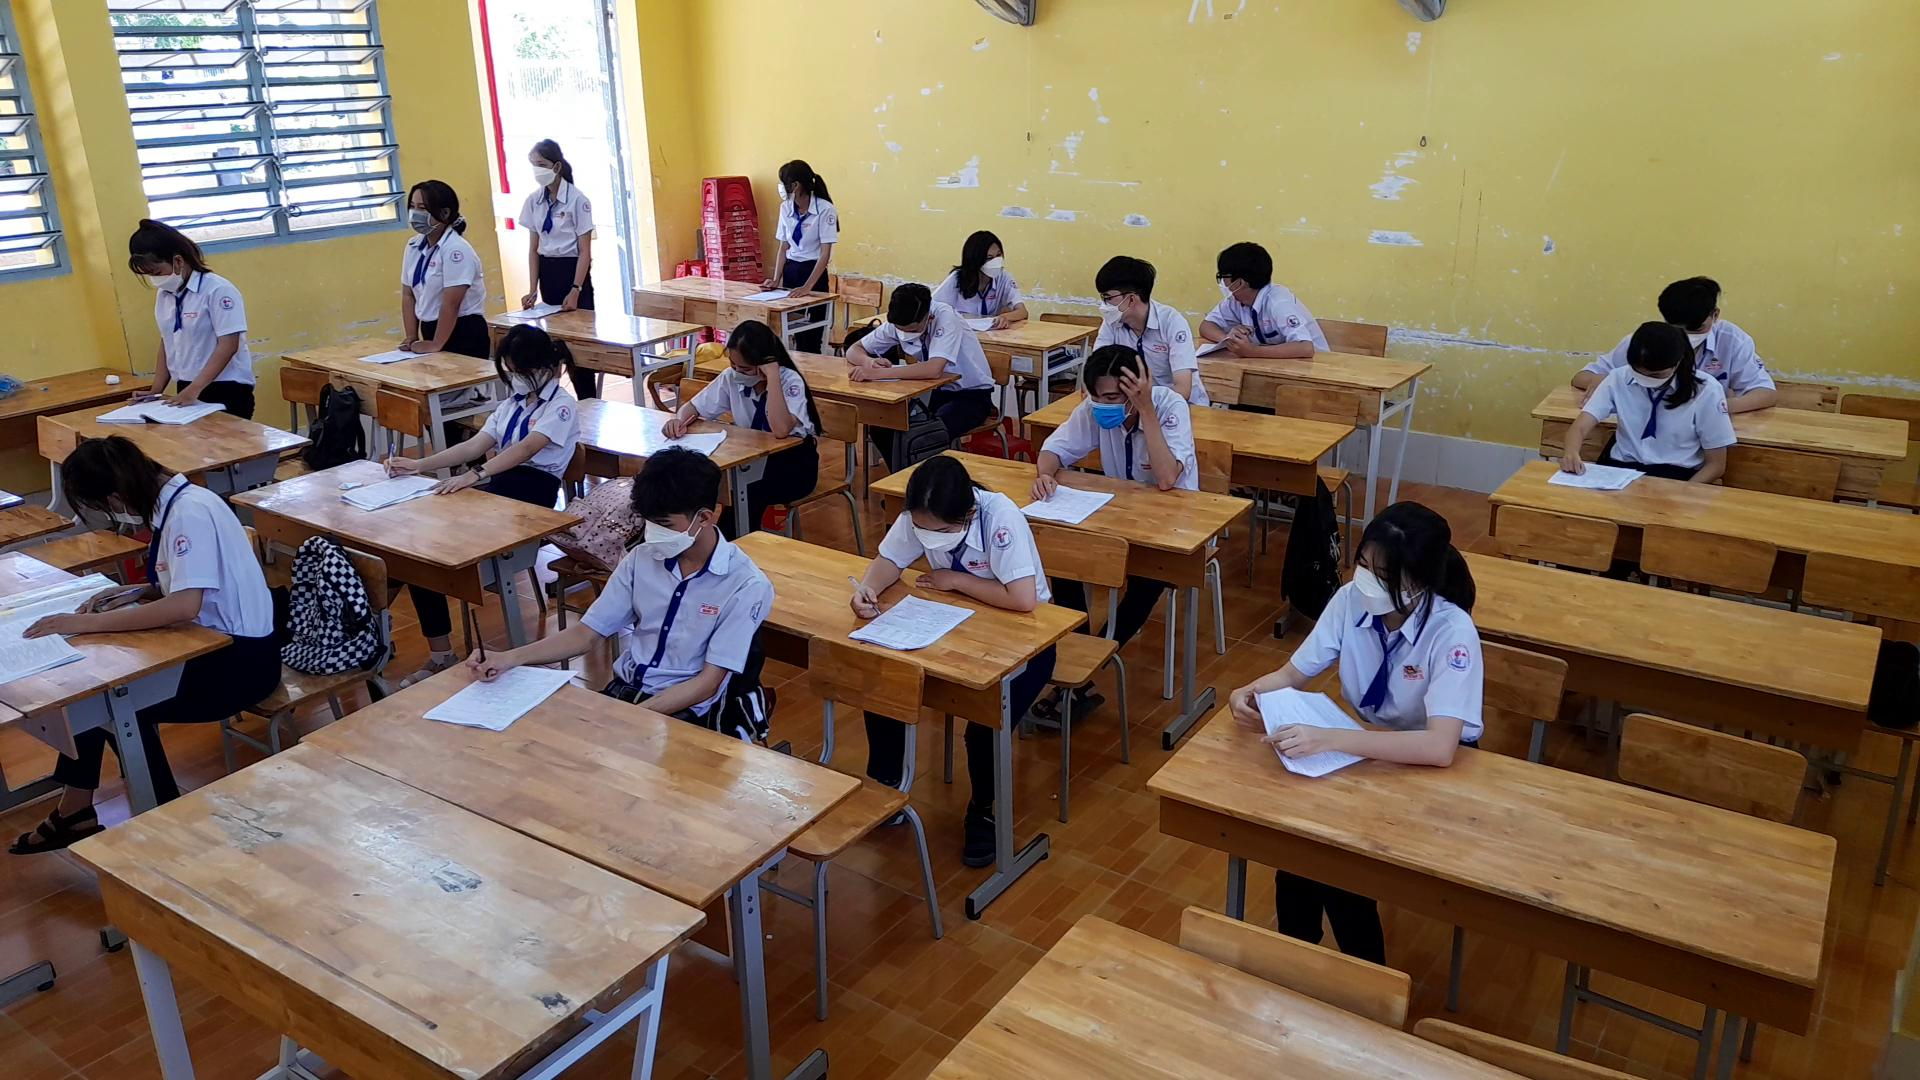Bend Over The Desk: (47, 429, 167, 539)
Hand Under Table: (632, 568, 777, 732), (1681, 373, 1739, 488)
Look Around: (1209, 224, 1279, 313), (1089, 249, 1159, 338), (945, 214, 1015, 301)
Normal: (1215, 489, 1494, 773), (832, 448, 1052, 630), (444, 316, 582, 493), (843, 268, 993, 386)
Stand Up: (116, 210, 262, 415), (380, 170, 493, 367), (489, 129, 603, 324), (749, 138, 849, 302), (752, 140, 851, 303)
Wave: (1117, 356, 1199, 492), (750, 338, 807, 439)
